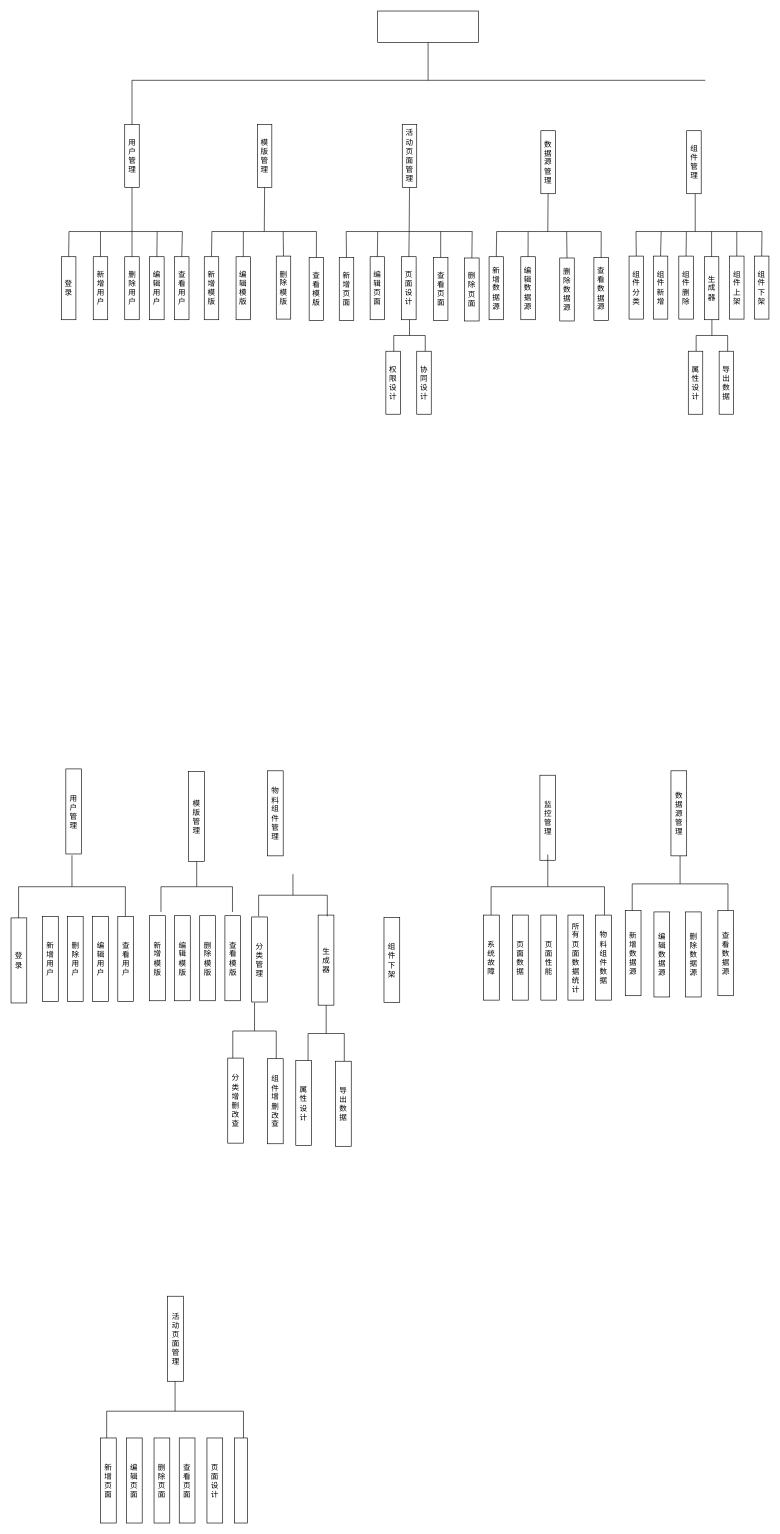
Image size: 780x1534. Some labels were removed from this diagram. Each missing label, with the box of its shape:
协同编辑: (234, 1437, 248, 1523)
活动页面搭建平台: (377, 10, 478, 43)
